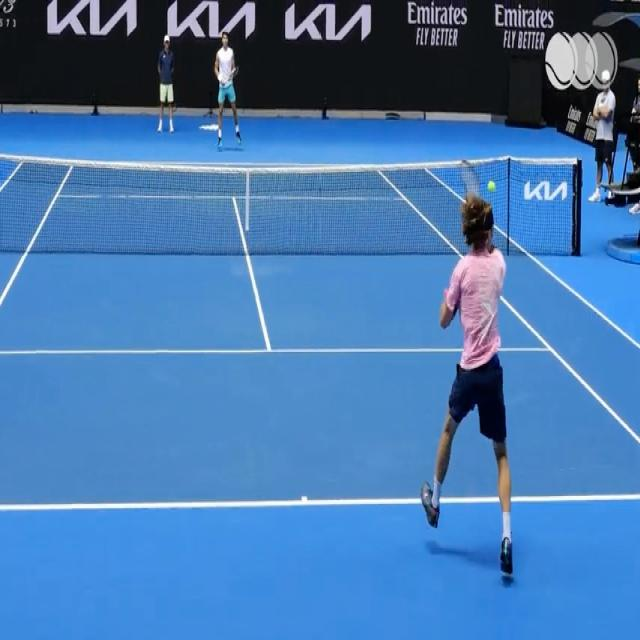forehand-stroke: (423, 158, 519, 572)
